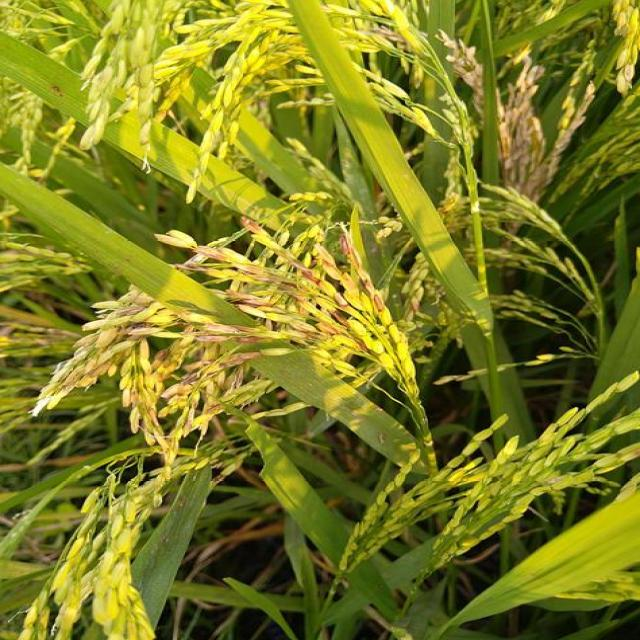Panicle Blight: (520, 81, 595, 202), (500, 58, 547, 183), (439, 31, 483, 122), (340, 234, 386, 313), (332, 292, 371, 353), (316, 245, 358, 293), (228, 293, 271, 318), (109, 297, 155, 318), (170, 254, 213, 275), (220, 351, 258, 372), (122, 322, 163, 341), (155, 231, 196, 249), (293, 263, 323, 287), (153, 349, 173, 384), (224, 363, 244, 397), (277, 281, 309, 301), (617, 61, 636, 94), (238, 268, 278, 283), (203, 324, 269, 333), (377, 28, 405, 49), (186, 353, 209, 378), (290, 294, 313, 317), (159, 384, 192, 400), (89, 361, 113, 382), (194, 246, 227, 260), (239, 216, 261, 234), (298, 325, 324, 340), (194, 335, 238, 343), (232, 336, 274, 344), (123, 389, 139, 408), (139, 122, 150, 148), (181, 372, 200, 387), (317, 323, 340, 335), (181, 323, 201, 335), (204, 403, 221, 415), (409, 296, 420, 313), (147, 405, 154, 421), (157, 110, 167, 119), (185, 416, 193, 427)
